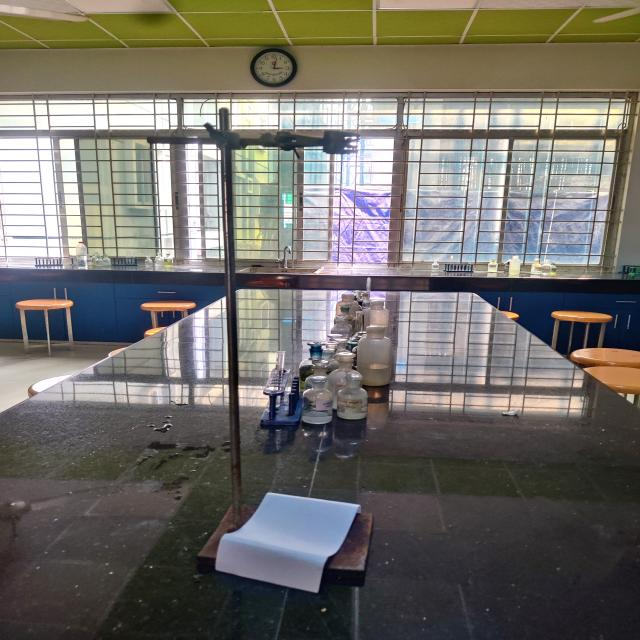Burette_Stands: (126, 104, 374, 628)
